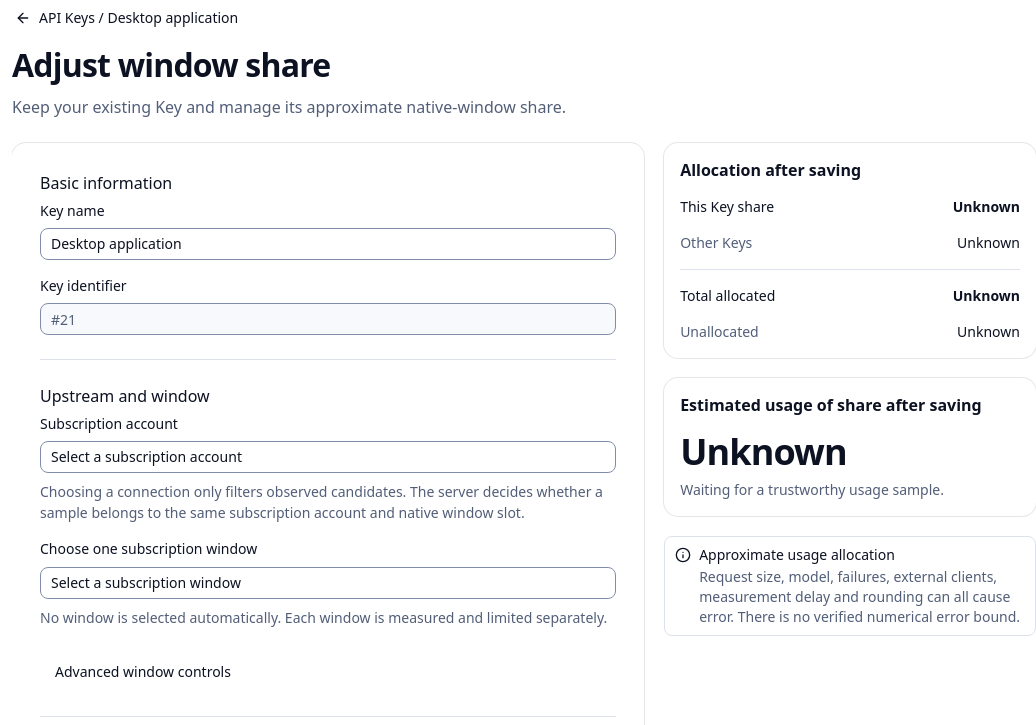
Test: changing the percentage retains five percentage points of usage and updates its share-relative ratio
Select "Subscription account A · #9" in the dropdown labelled "Subscription account". click: (328, 457)
box: [40, 441, 616, 473]
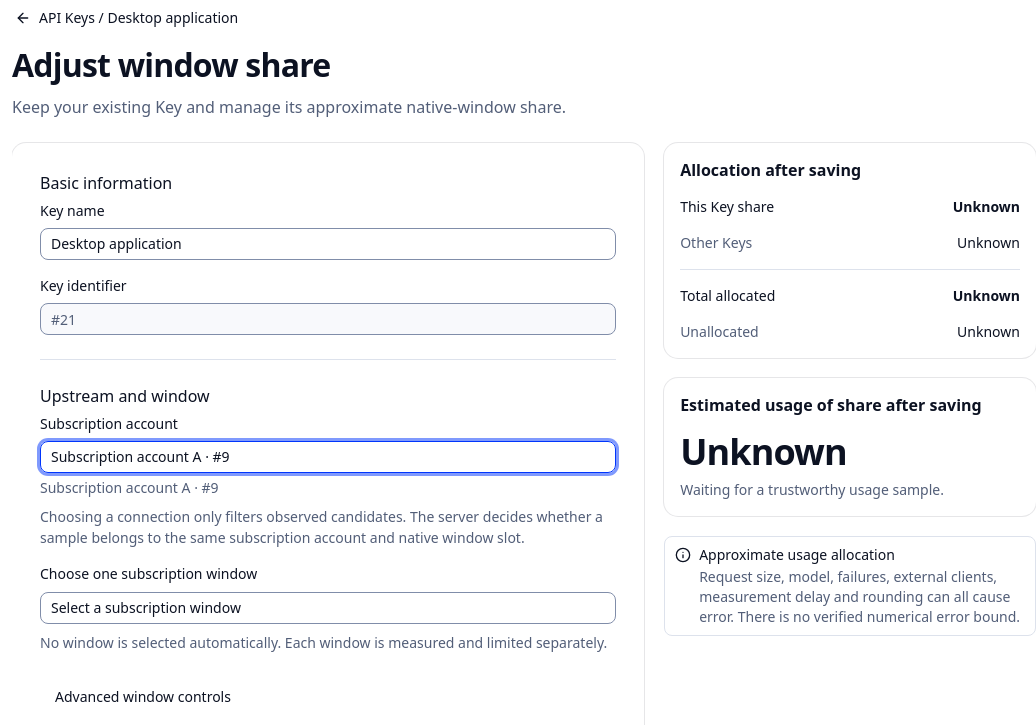
Select "5 hours · Primary window · 5-hour window" in the dropdown labelled "Choose one subscription window". click: (328, 608)
box: [40, 592, 616, 624]
(page scrolled)
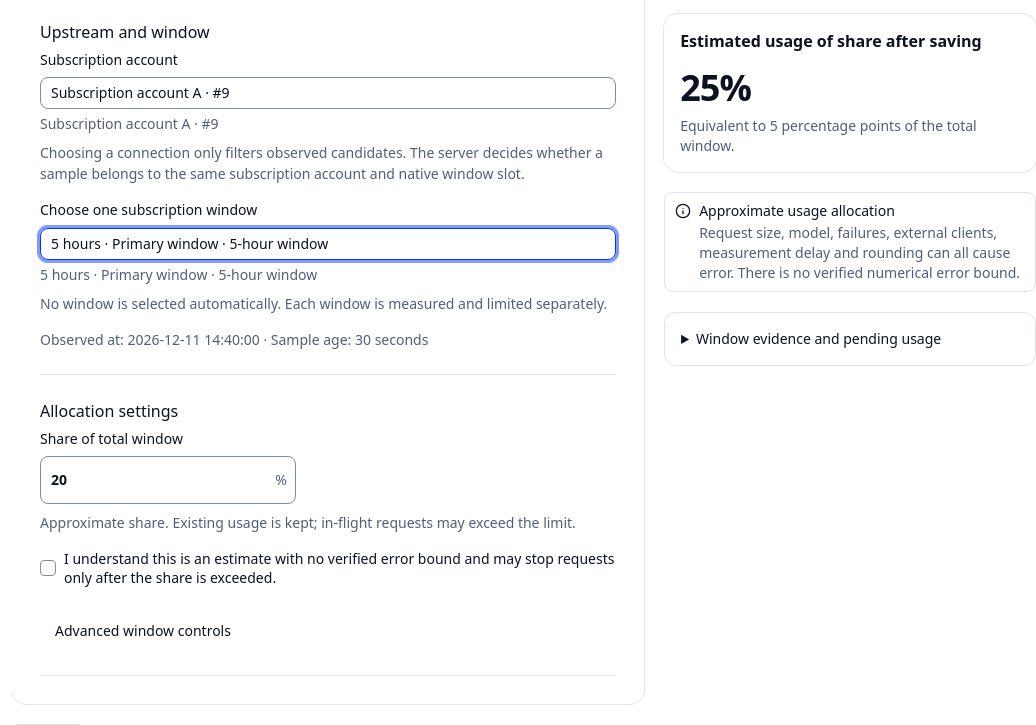
Replace the text in the field labelled "Share of total window" with "25". click: (158, 480)
box: [41, 456, 275, 504]
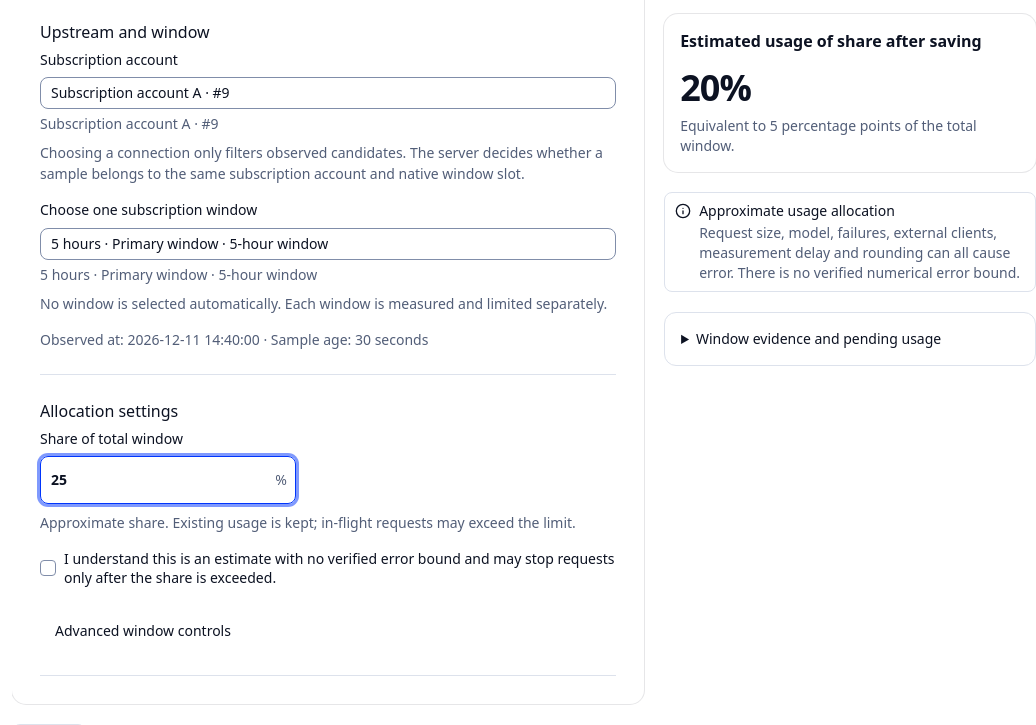
Expected: the text "Estimated usage of share after saving" is shown, [680, 30, 1020, 52]
Expected: the text "Equivalent to 5 percentage points of the total window." is shown, [680, 116, 1020, 156]
Expected: the text "20%" is shown, [680, 63, 751, 112]
